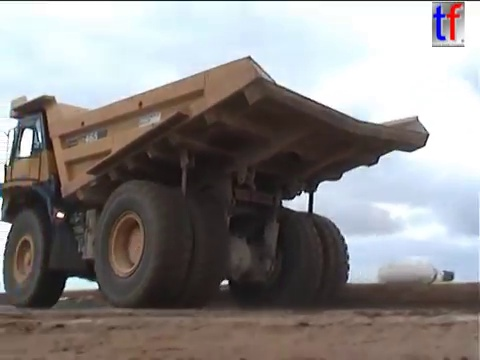truck: (1, 52, 433, 312)
